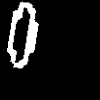chain: (7, 2, 38, 67)
